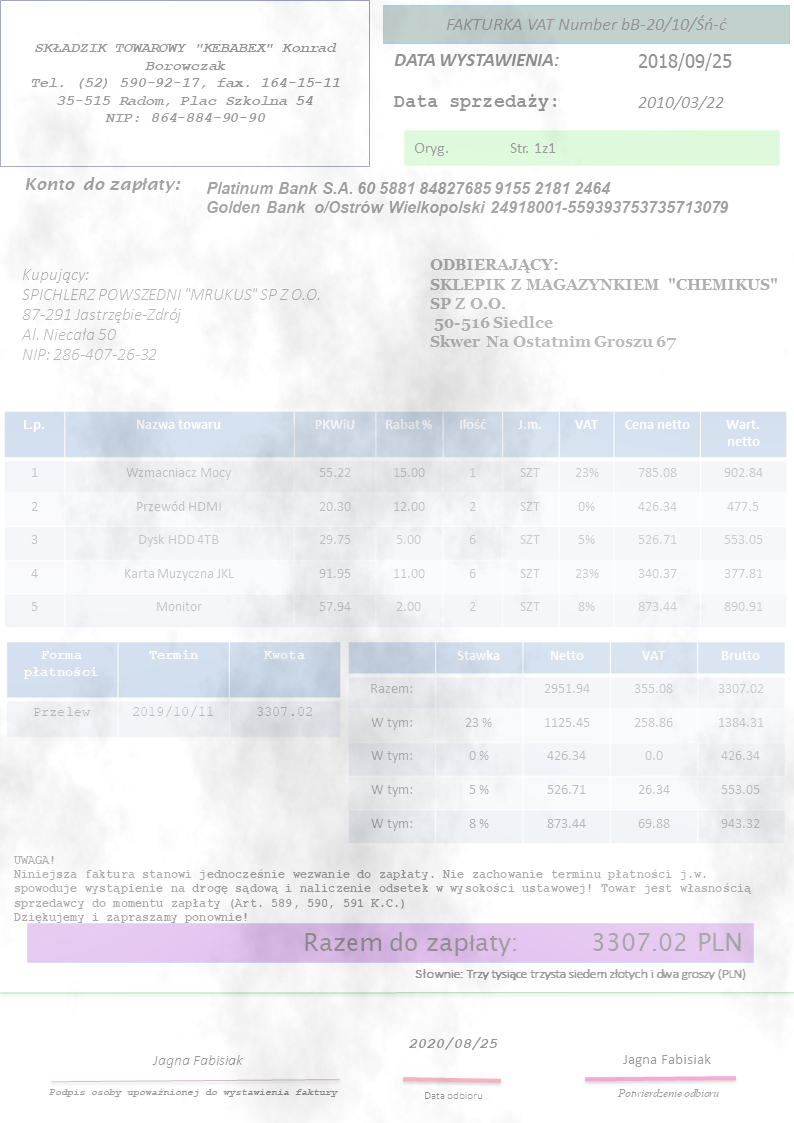Table: (2, 409, 788, 627), (348, 641, 786, 845), (4, 639, 342, 740)
TextBox: (11, 853, 752, 926), (428, 256, 778, 351), (18, 264, 321, 363), (30, 39, 343, 126), (203, 177, 730, 217), (301, 927, 743, 959), (412, 965, 748, 984), (442, 14, 731, 35), (46, 1084, 339, 1100), (391, 90, 560, 114), (21, 174, 182, 197), (391, 50, 562, 70), (411, 139, 558, 159), (635, 49, 734, 72), (615, 1085, 721, 1101), (620, 1051, 711, 1068), (636, 94, 726, 111), (150, 1053, 244, 1068), (407, 1036, 500, 1051), (421, 1088, 485, 1103)
